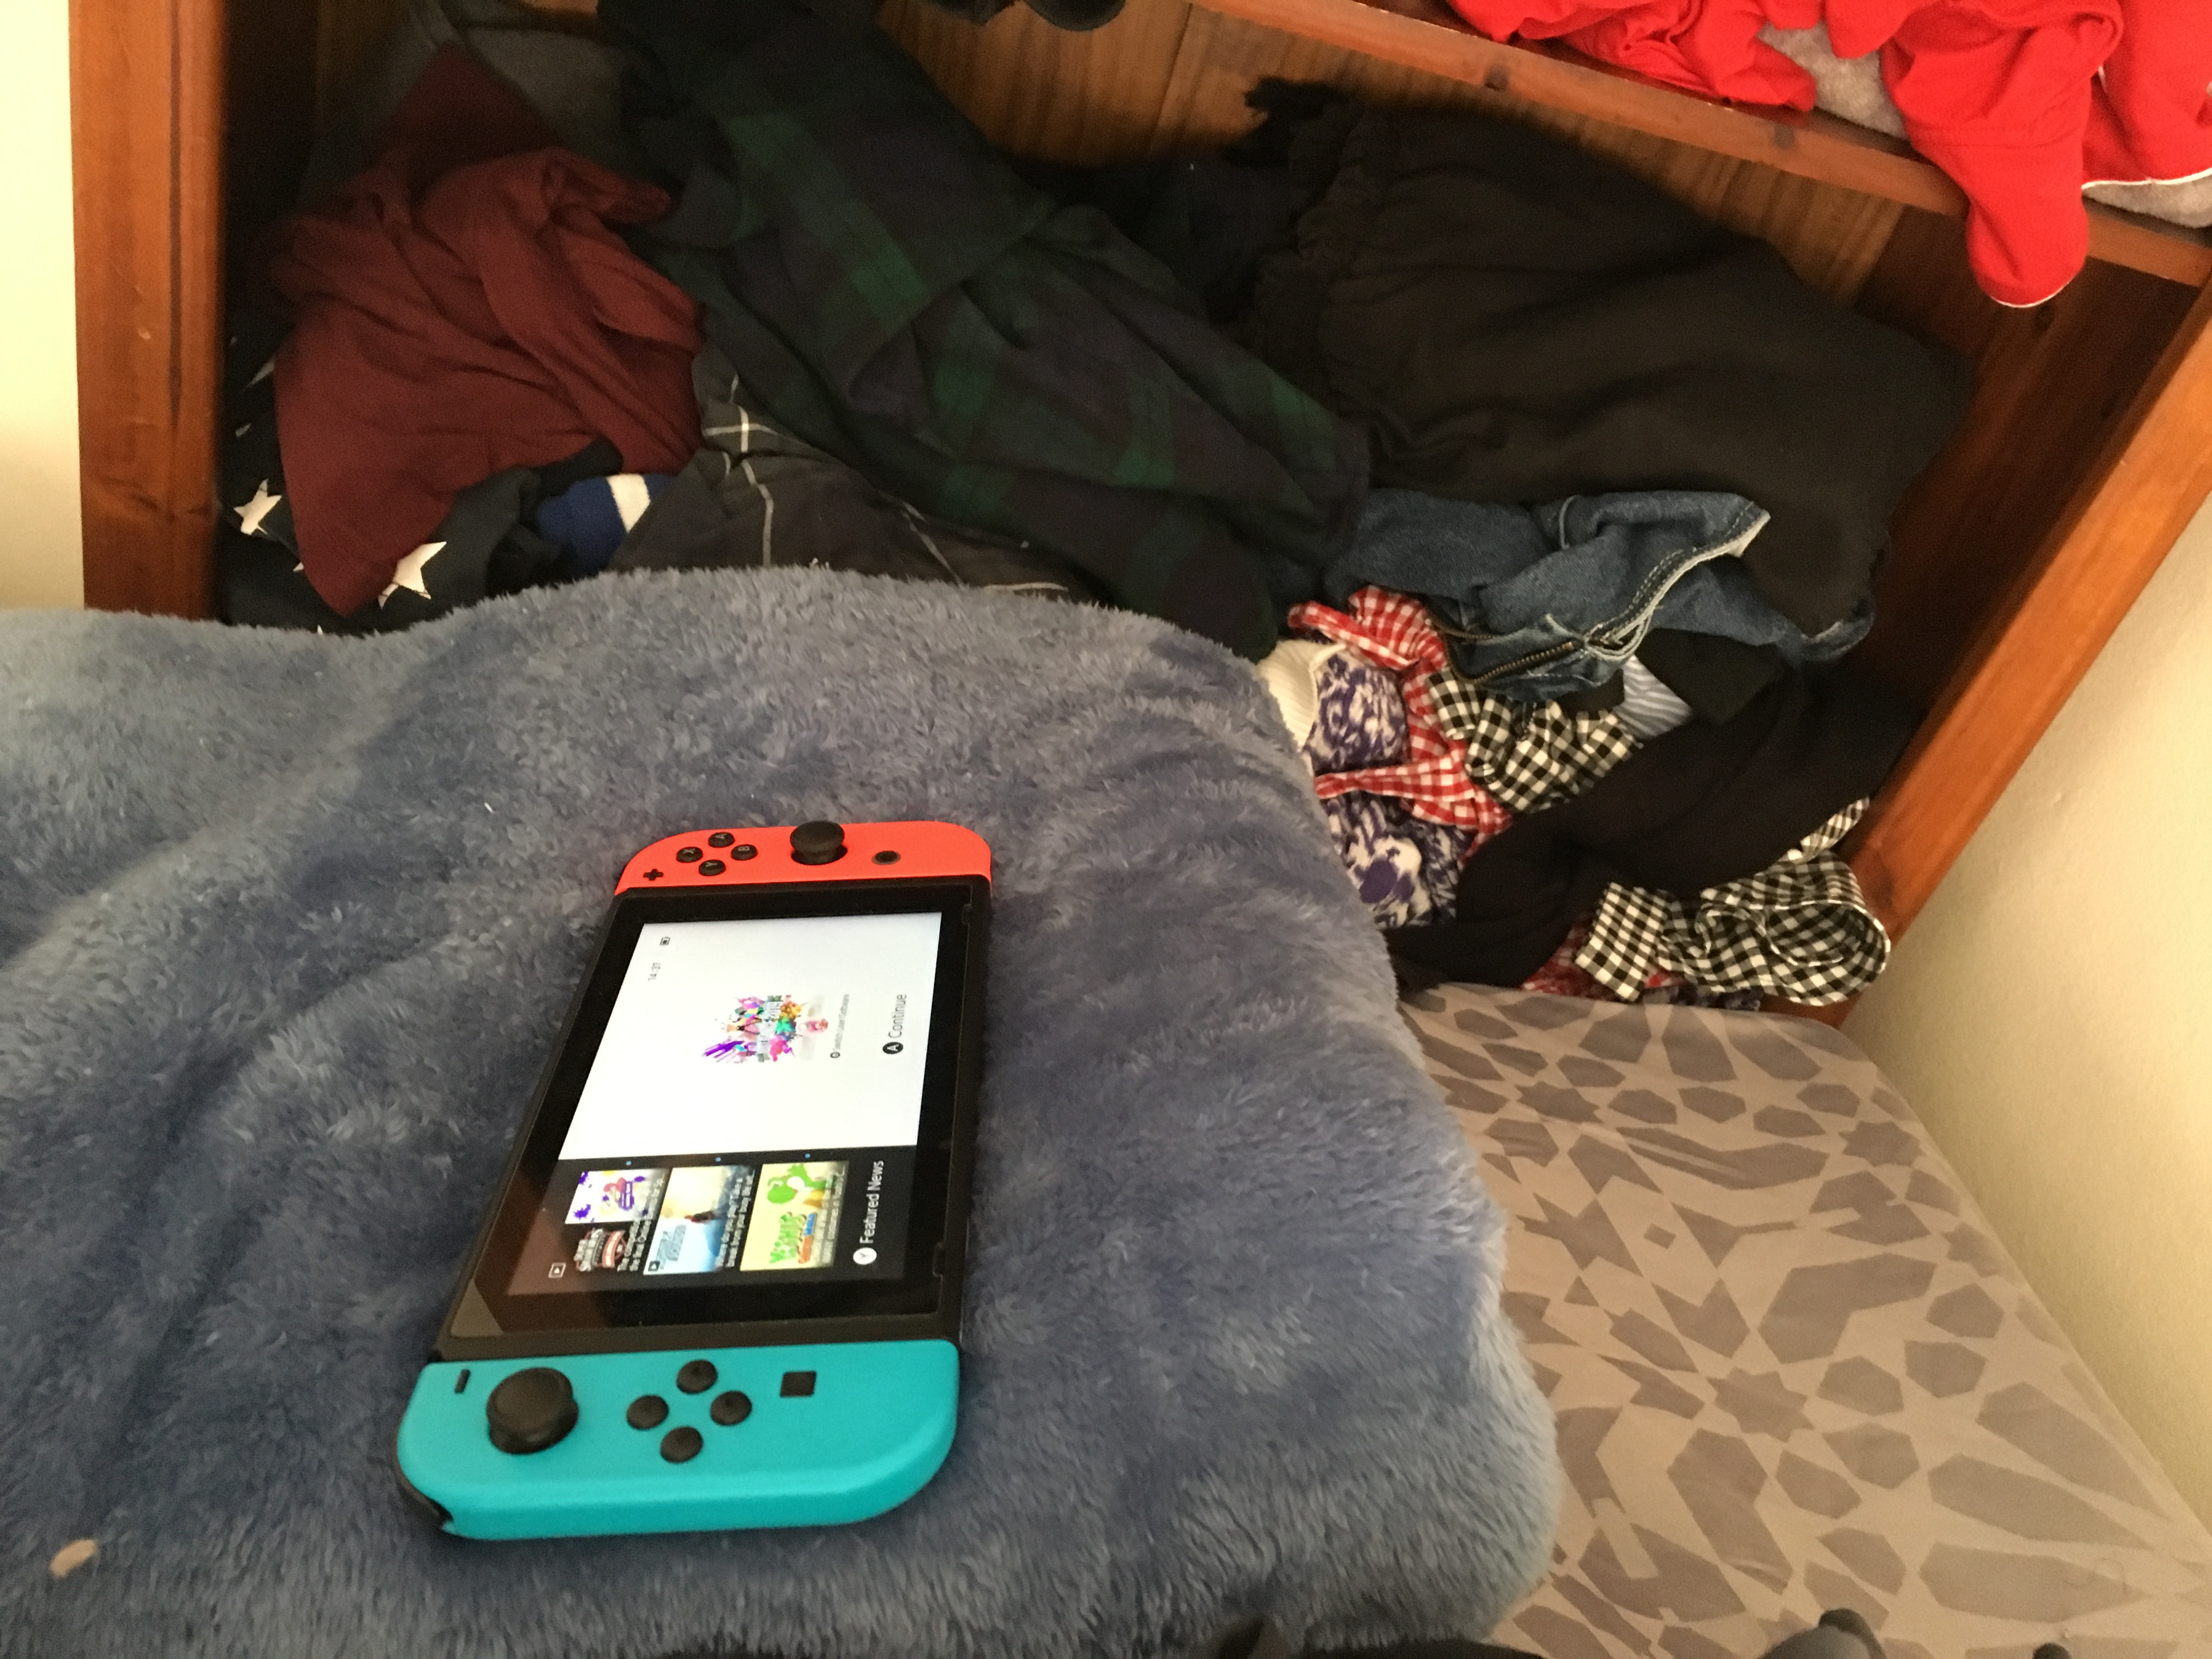NintendoSwitch: (371, 805, 1001, 1561)
